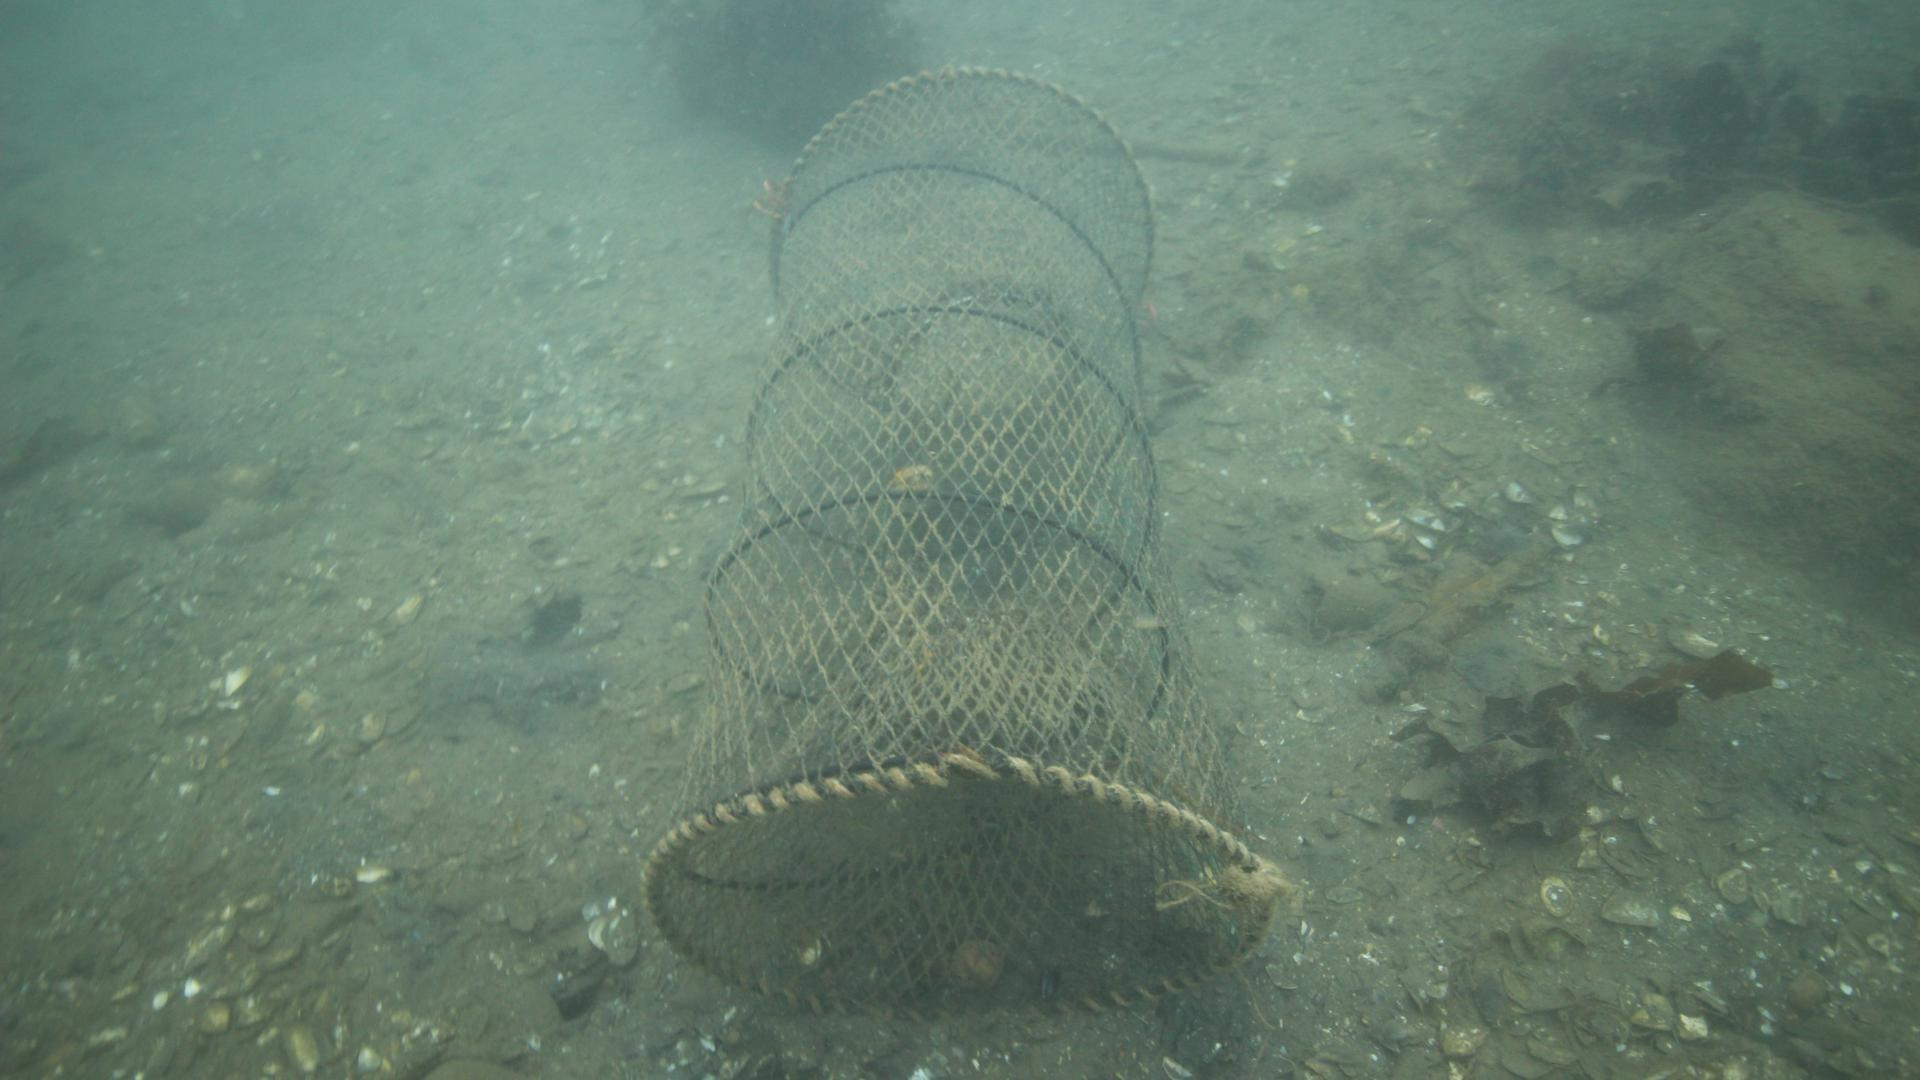spring fish trap: (640, 61, 1274, 1027)
